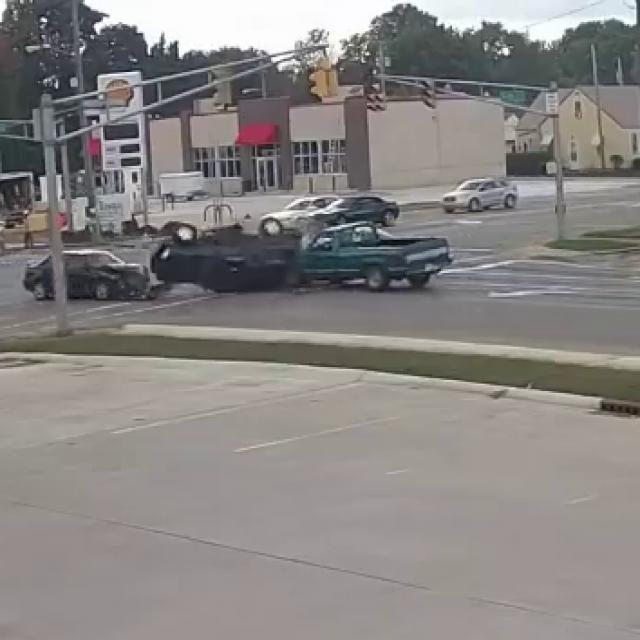accident: (137, 212, 452, 316), (144, 206, 296, 307)
